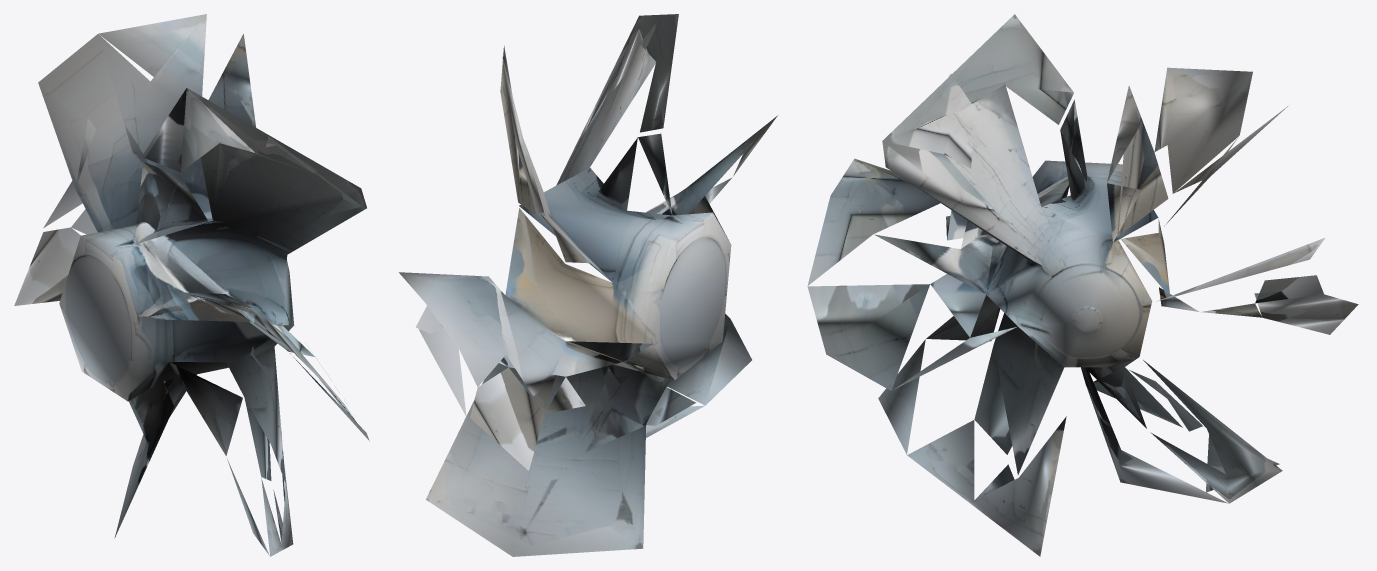
File: TripoModel.glb
3 views of the same model, side by side, from view 1: azimuth 30°, elevation 25°; view 2: azimuth 150°, elevation 25°; view 3: azimuth 270°, elevation 25° (orthographic). The views are drawn at different scales.
Parts seen in each view (by area): view 1: tripo_node_17d271d0-2c9e-4977-8e21-431a05e5c7ea; view 2: tripo_node_17d271d0-2c9e-4977-8e21-431a05e5c7ea; view 3: tripo_node_17d271d0-2c9e-4977-8e21-431a05e5c7ea.
Part boxes in pixels (bbox=[...]): tripo_node_17d271d0-2c9e-4977-8e21-431a05e5c7ea: bbox=[14, 14, 369, 556]; tripo_node_17d271d0-2c9e-4977-8e21-431a05e5c7ea: bbox=[399, 14, 777, 556]; tripo_node_17d271d0-2c9e-4977-8e21-431a05e5c7ea: bbox=[807, 14, 1358, 556].
Bounding box in the file's own units: 0.3817 × 0.9434 × 0.977.
Materials: 1 (1 with a texture image).
